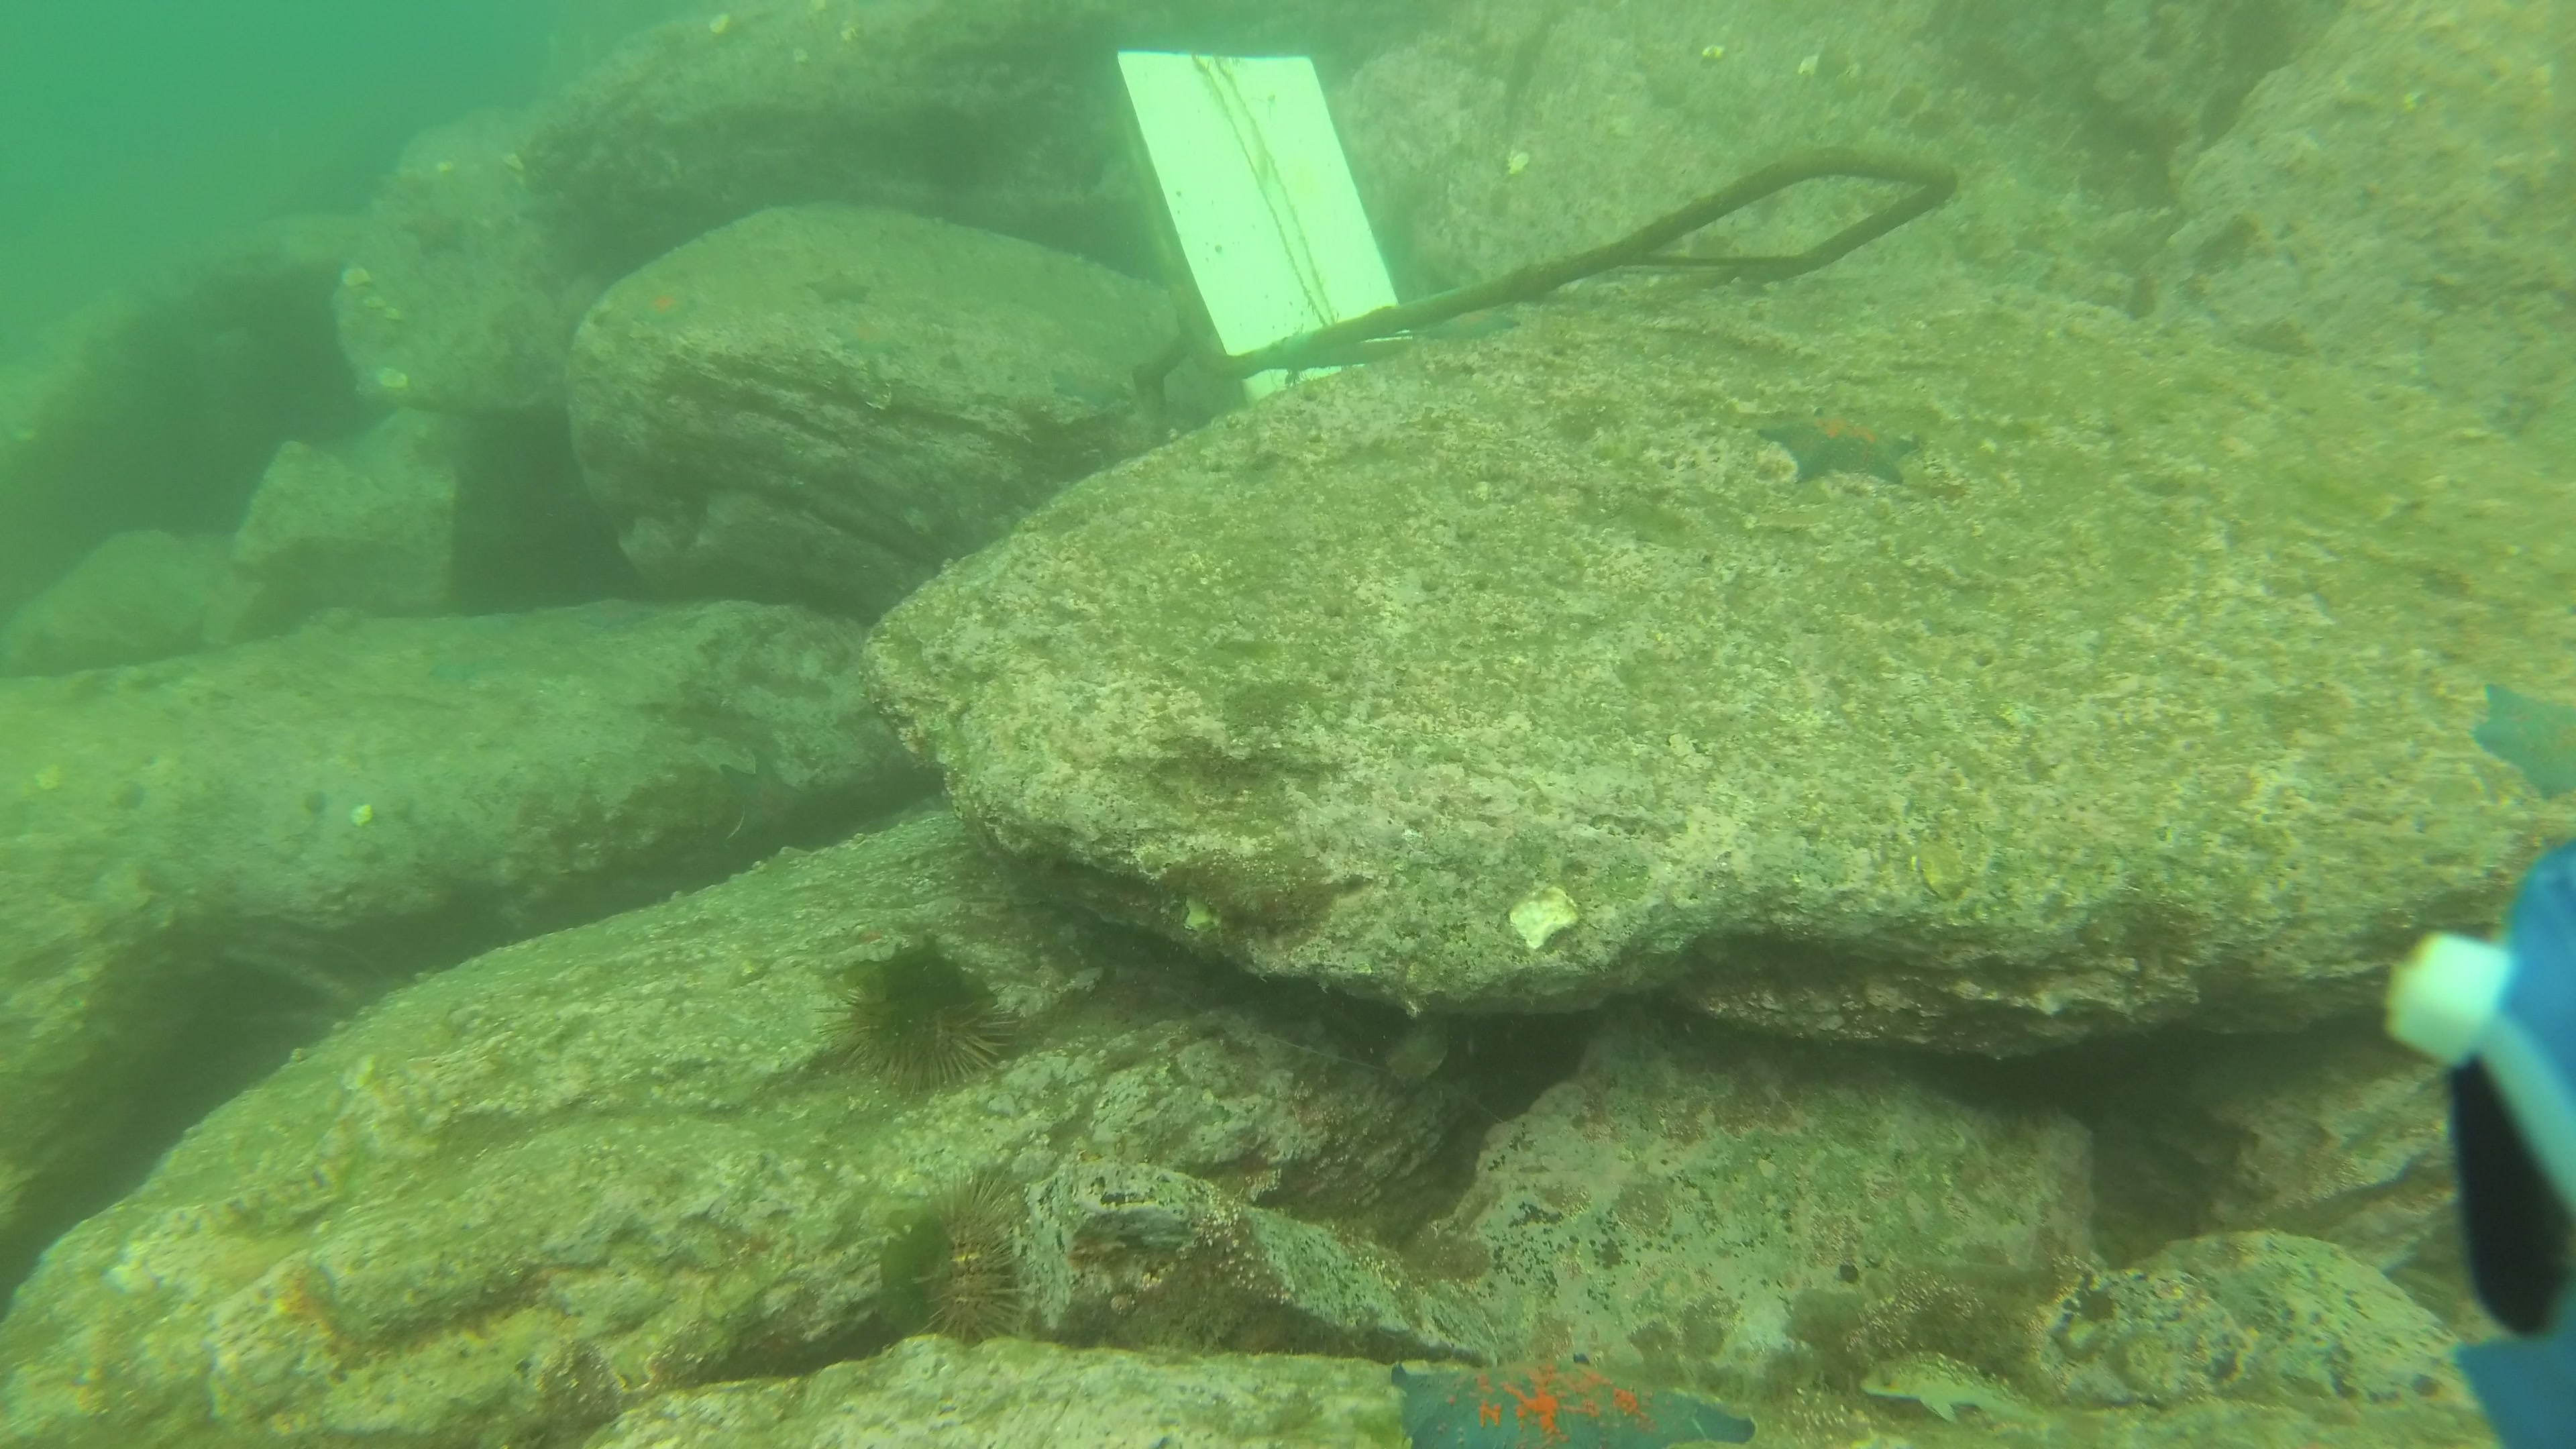echinus: (821, 943, 1030, 1097), (902, 1161, 1046, 1353)
starfish: (1385, 1350, 1762, 1449), (1755, 400, 1925, 488), (2466, 679, 2574, 809), (1044, 361, 1139, 414), (828, 311, 915, 364), (400, 198, 476, 258), (1415, 308, 1529, 347), (626, 274, 702, 331), (801, 262, 874, 306)
